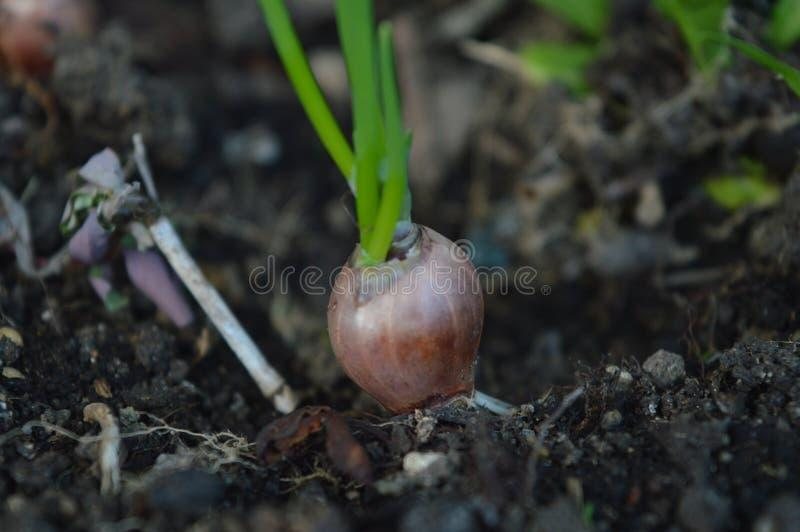Onion: (328, 228, 483, 413)
